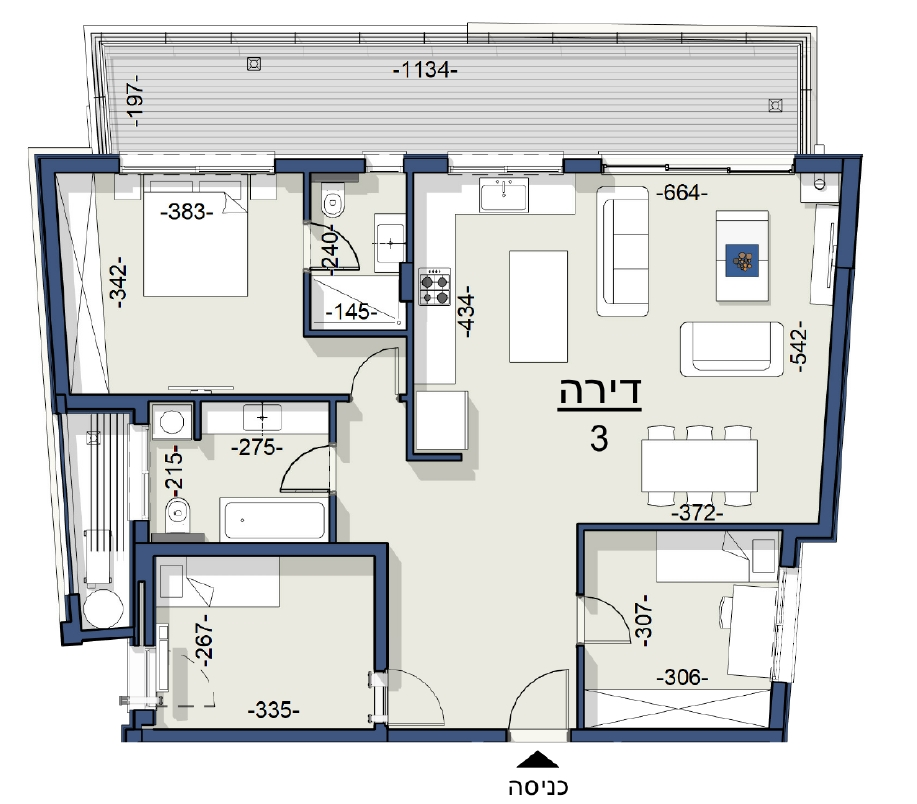door: (502, 665, 572, 720), (395, 662, 449, 728), (592, 584, 632, 653), (274, 442, 324, 497), (347, 341, 403, 378)
wall: (135, 544, 381, 556), (143, 729, 379, 739), (573, 730, 782, 741), (580, 523, 800, 530), (375, 545, 385, 666), (394, 730, 504, 740), (67, 395, 144, 409), (303, 271, 312, 339)
window: (116, 149, 275, 177), (601, 154, 796, 176), (446, 149, 564, 177), (363, 152, 405, 175)
